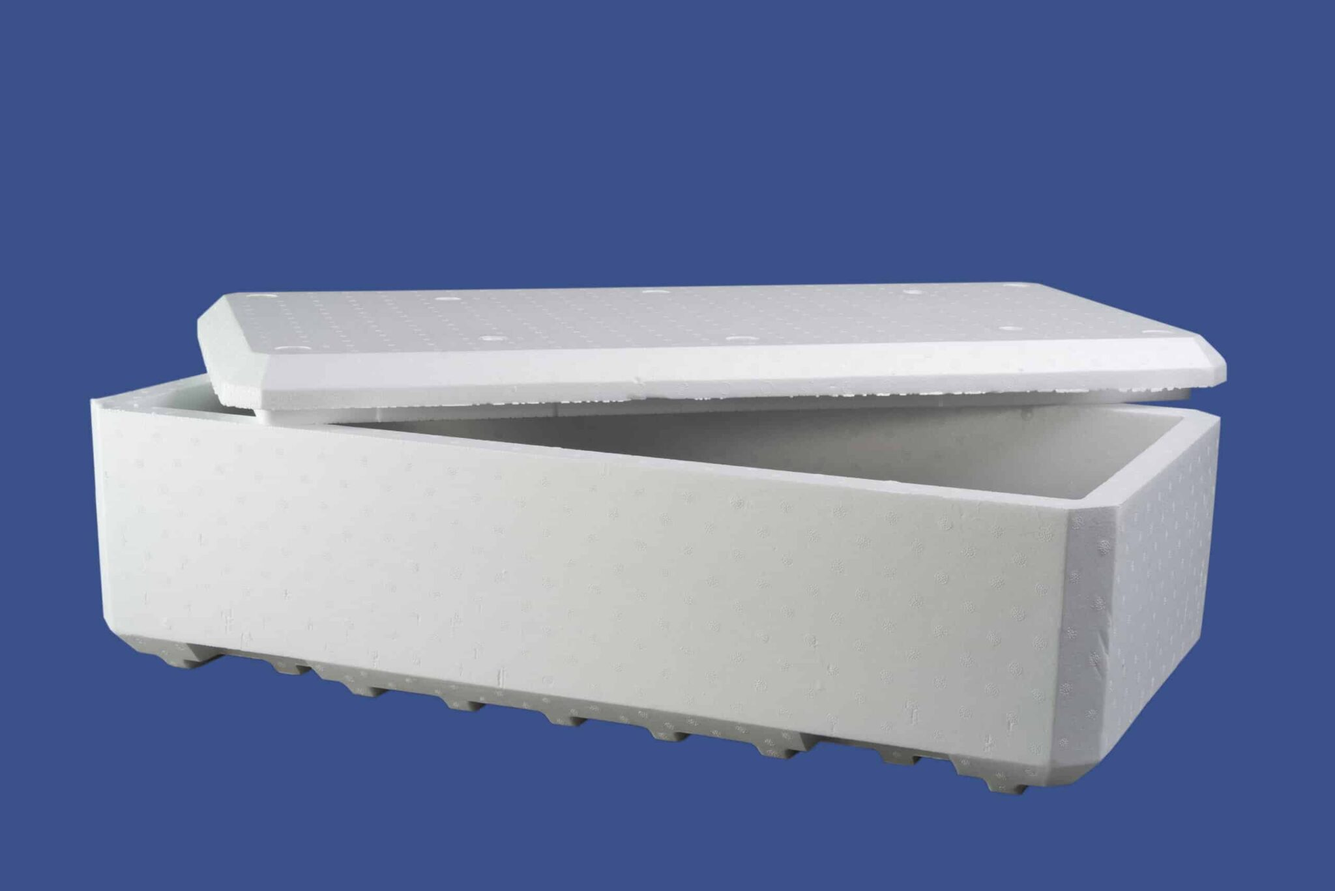泡沫箱: (91, 283, 1241, 792)
